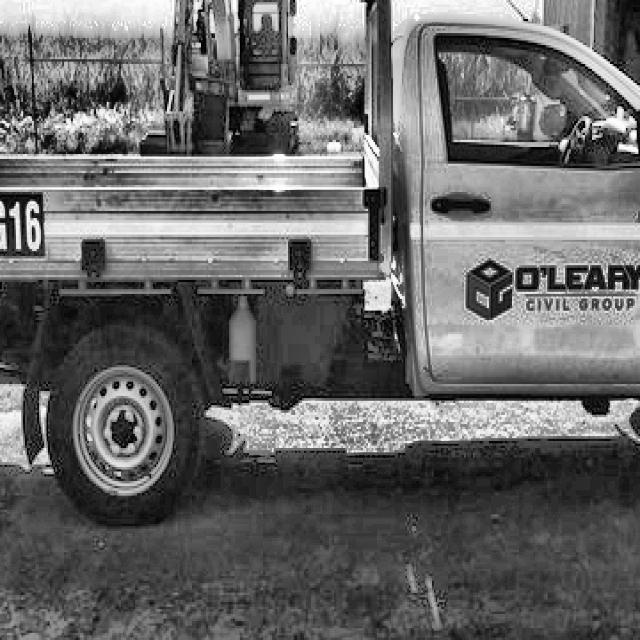light_vehicle: (0, 0, 640, 529)
